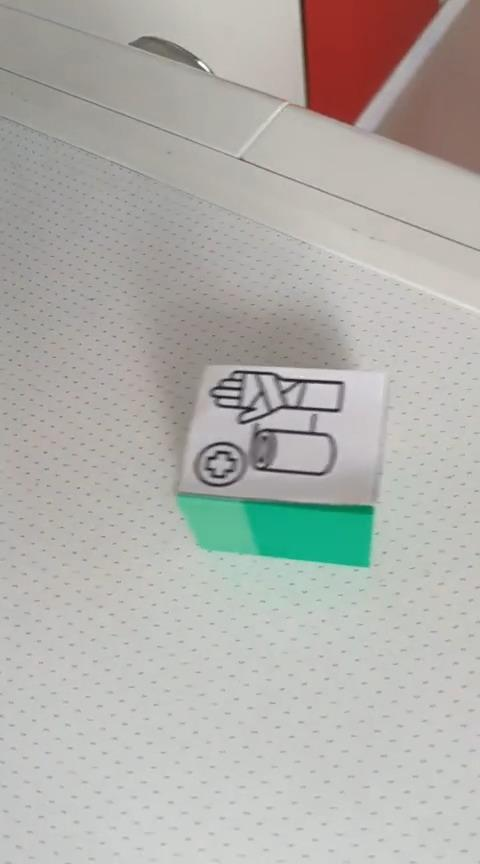Bandages: (171, 363, 387, 567)
